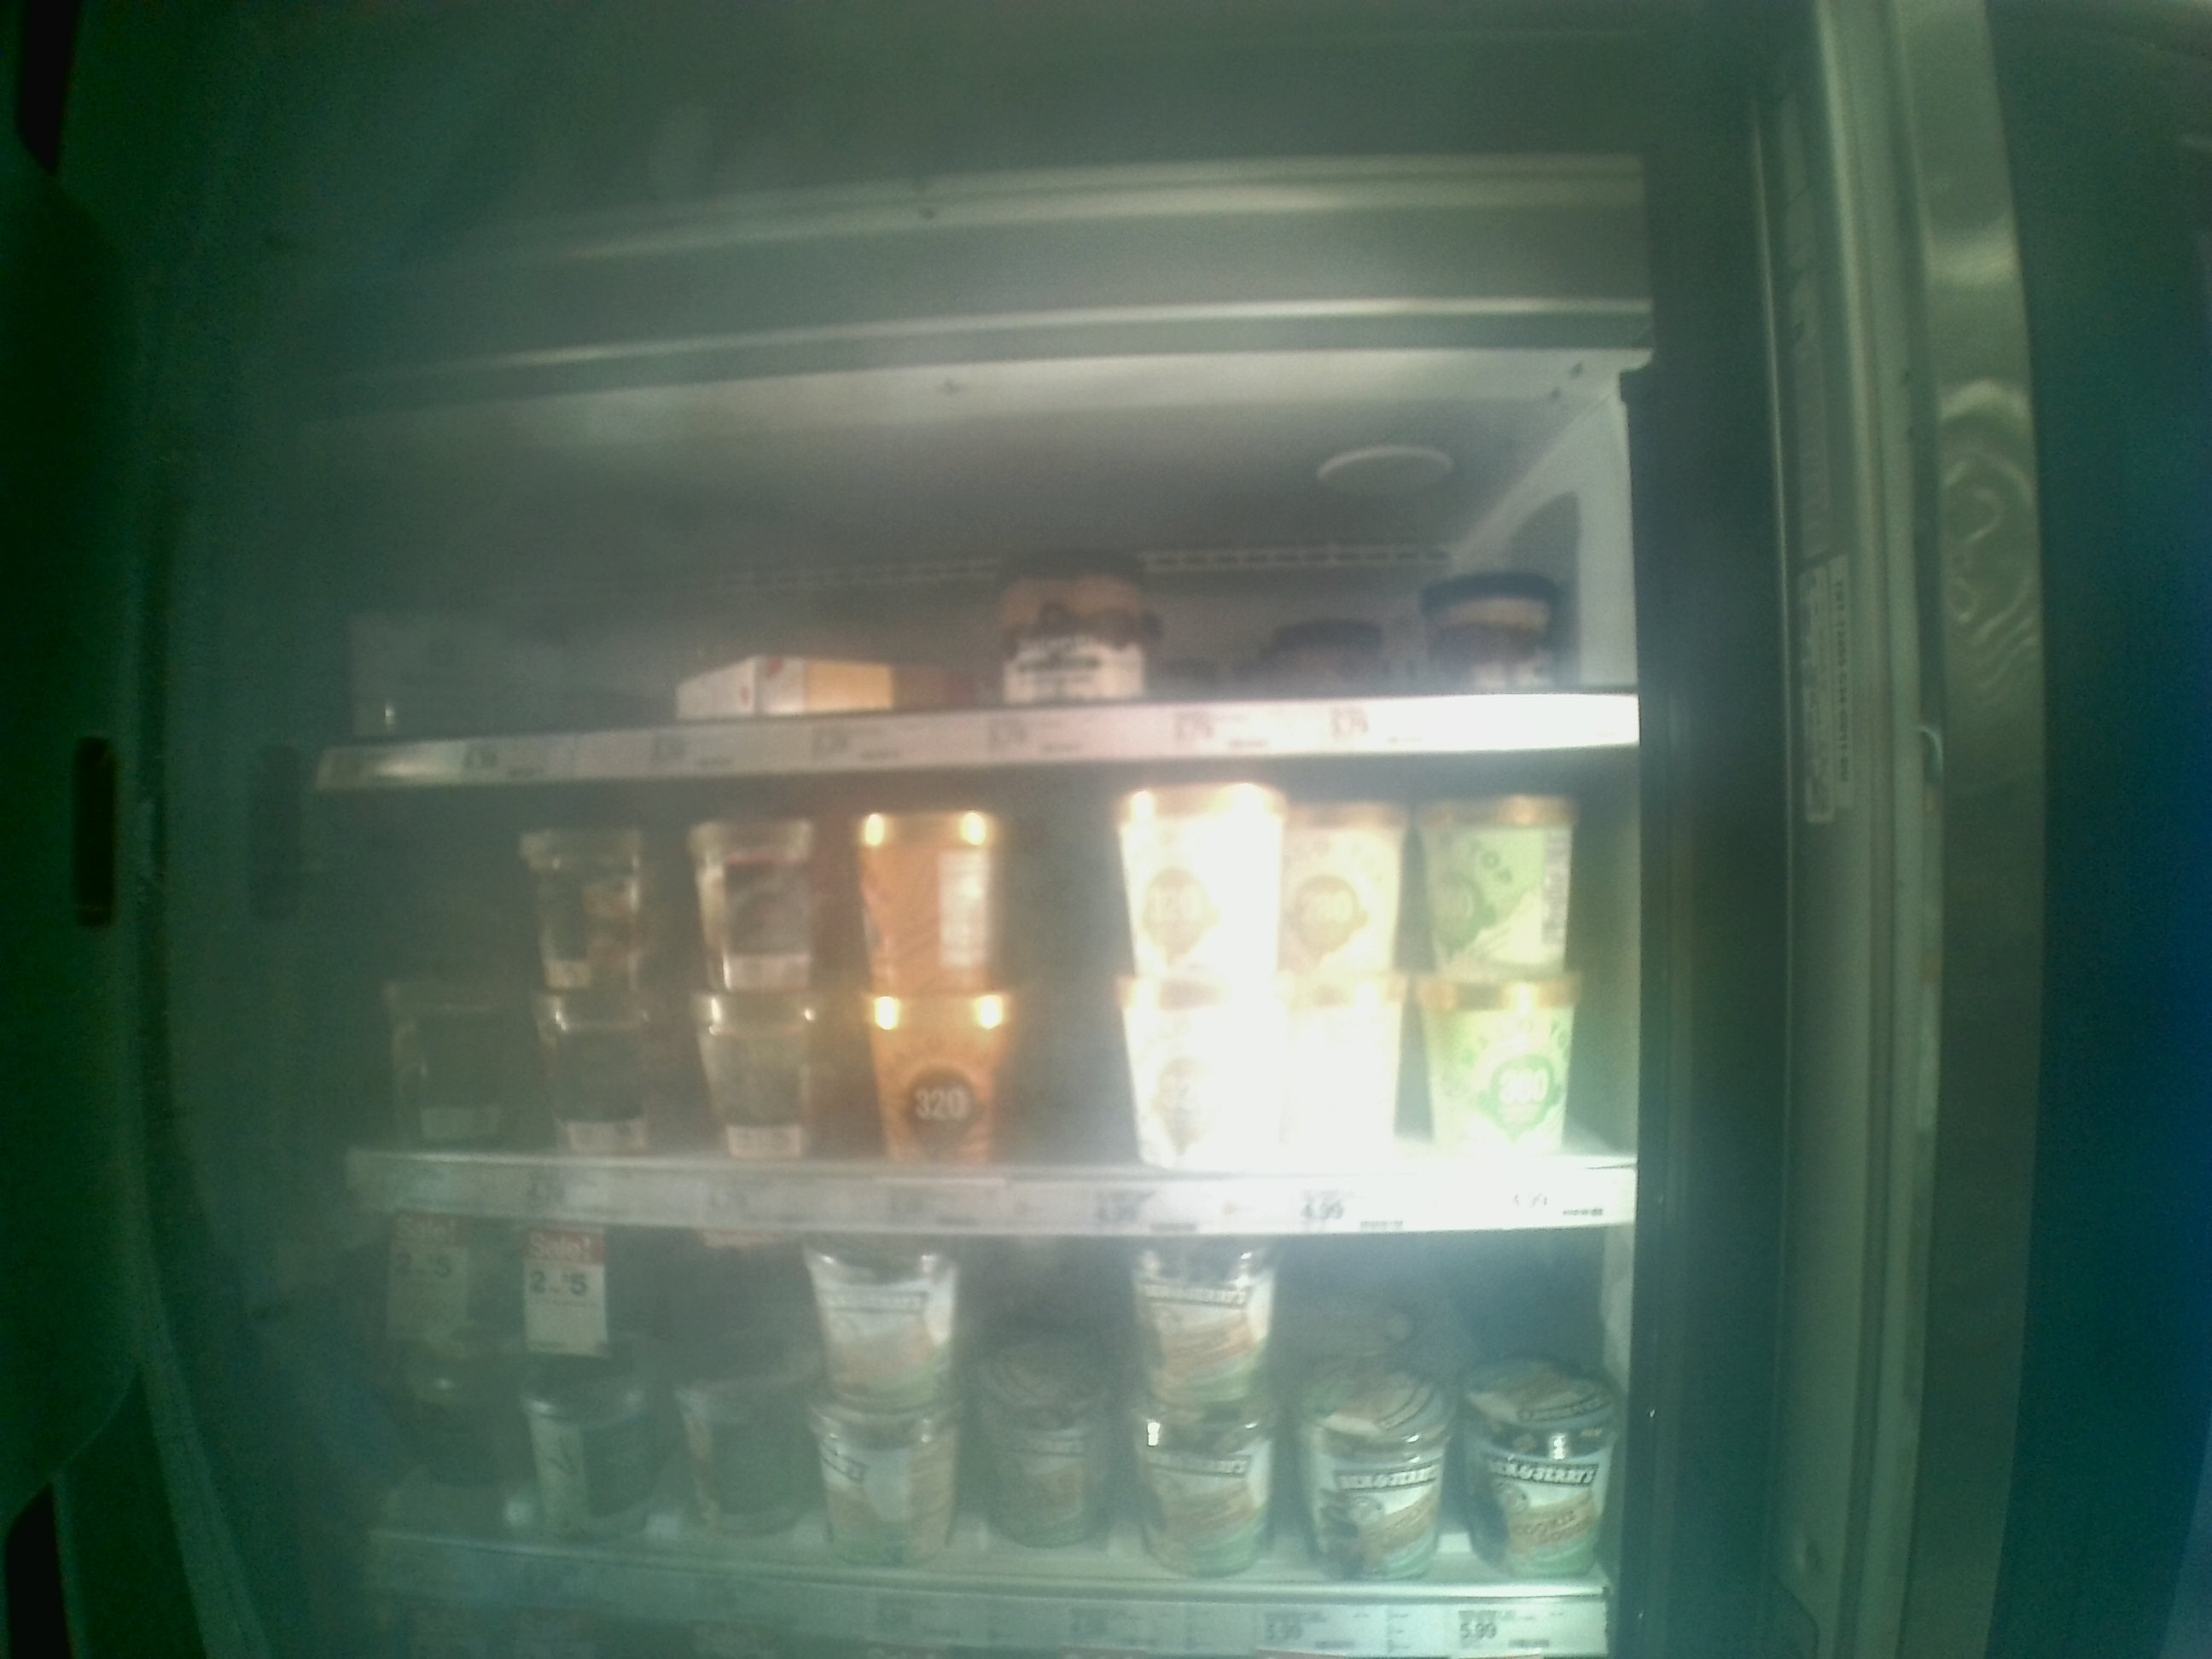shelf: (314, 751, 1639, 1225), (326, 1215, 1618, 1657), (314, 432, 1646, 784)
